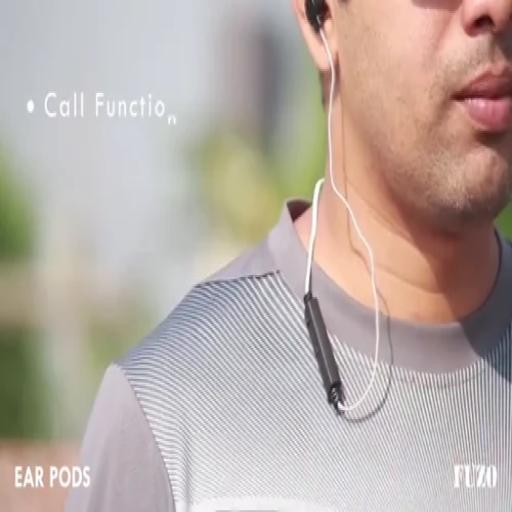earphone: (294, 0, 381, 426)
